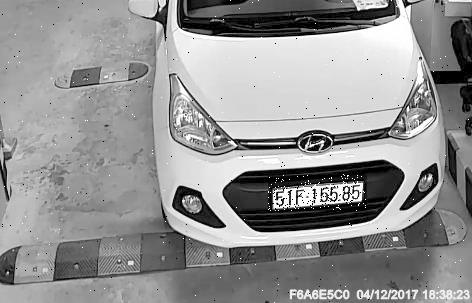License-plate: (269, 176, 368, 212)
